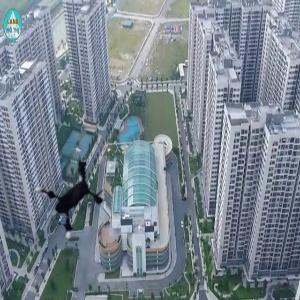drone: (11, 139, 121, 249)
